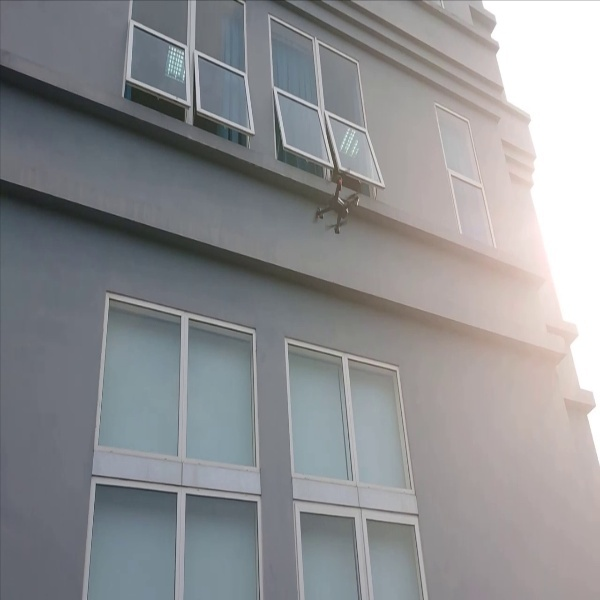drone: (301, 161, 368, 243)
